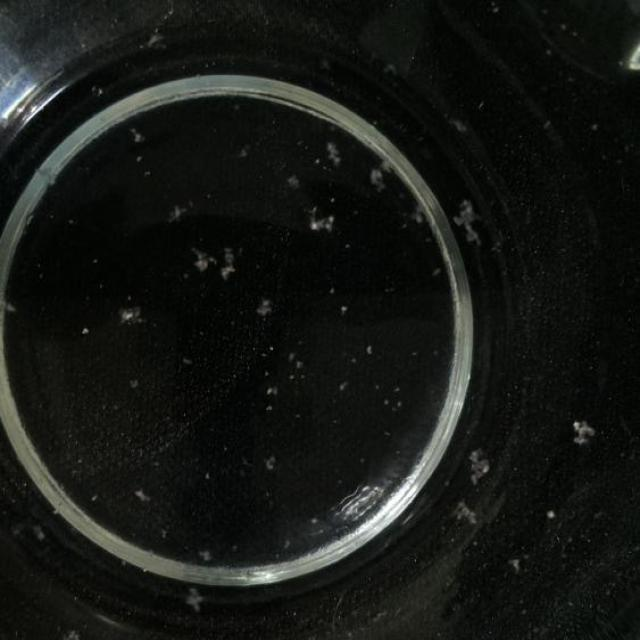fiber: (190, 246, 242, 278), (454, 194, 488, 238), (565, 415, 601, 452), (465, 446, 497, 479), (457, 497, 484, 534), (112, 302, 147, 326), (249, 295, 276, 326), (367, 149, 390, 185), (397, 205, 440, 224), (302, 212, 343, 230), (163, 204, 191, 229), (322, 136, 340, 174), (186, 586, 205, 622), (181, 552, 218, 570), (60, 621, 93, 640), (128, 484, 152, 510), (260, 454, 283, 478), (286, 166, 306, 192), (36, 523, 50, 550), (506, 559, 531, 568)
